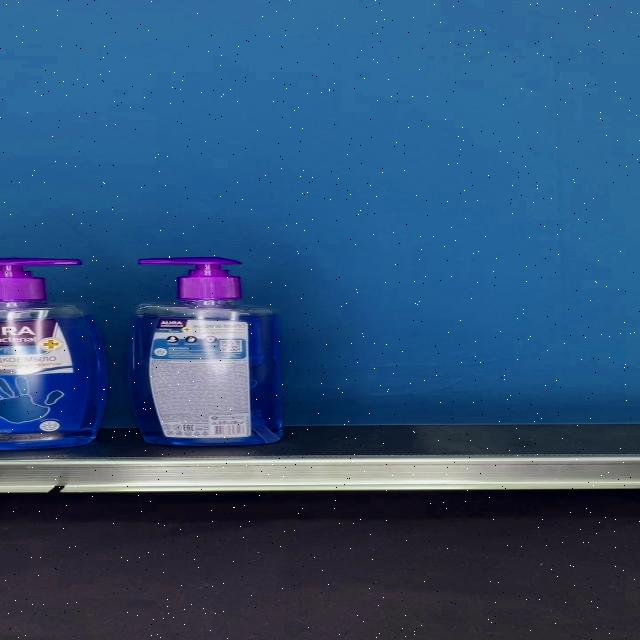Bottle: (129, 257, 284, 445)
Cap: (138, 258, 242, 300)
